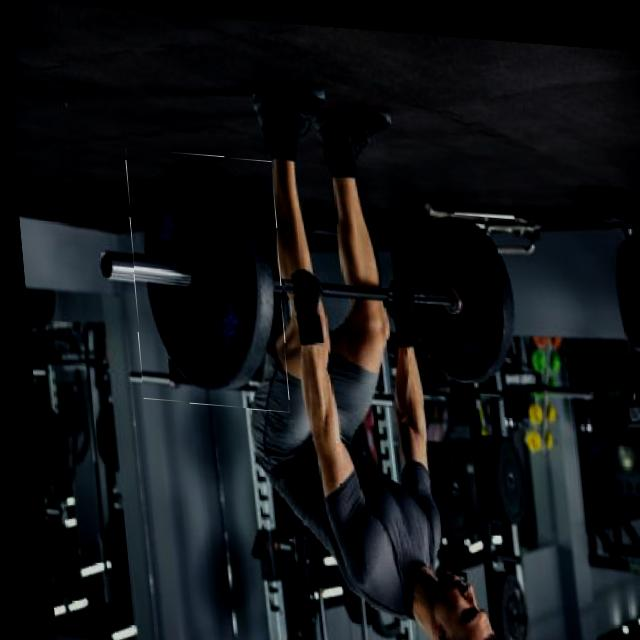barbell: (121, 148, 286, 409)
